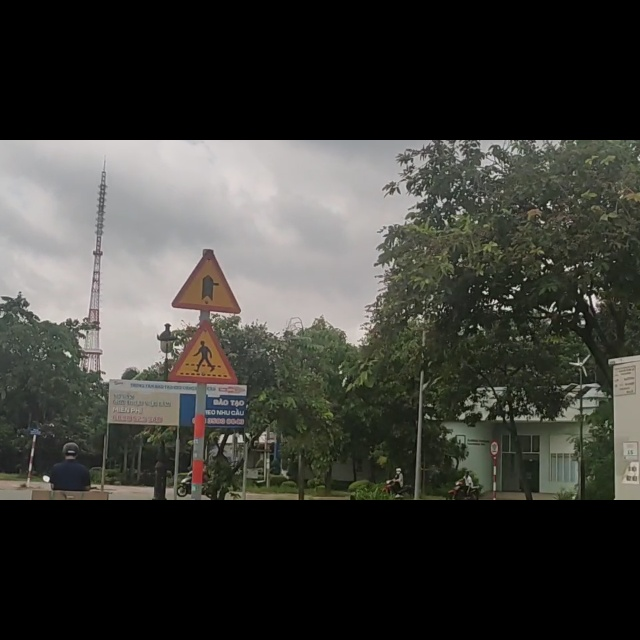bien_nguy_hiem: (171, 197, 243, 311), (169, 320, 240, 434)
